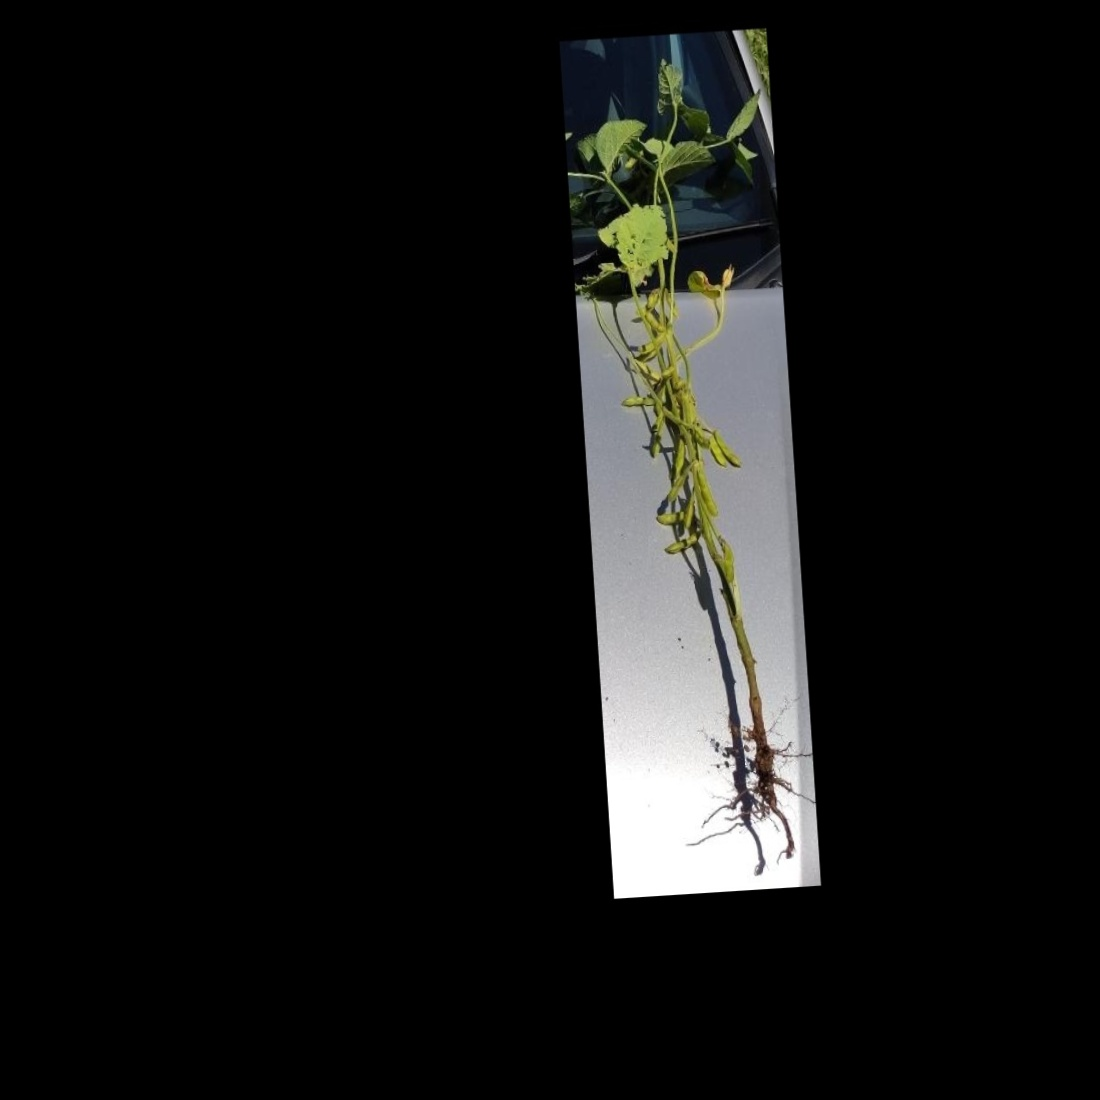pod: (692, 457, 718, 520), (712, 426, 743, 471), (658, 529, 704, 556), (647, 417, 665, 462), (617, 393, 661, 410)
soy: (592, 79, 803, 844)
